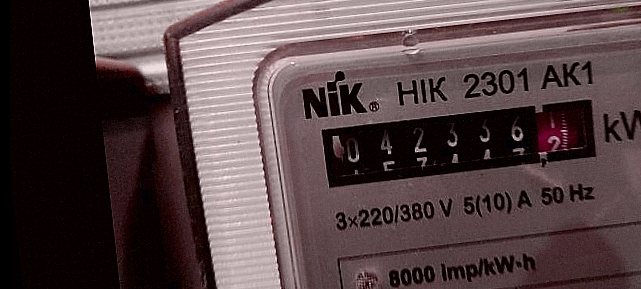0: (343, 134, 362, 163)
1: (544, 106, 558, 129)
2: (410, 123, 429, 153), (545, 132, 563, 152)
3: (473, 113, 492, 144), (442, 118, 460, 148)
4: (376, 125, 396, 156)
6: (507, 111, 527, 142)
screen: (309, 84, 612, 197)
